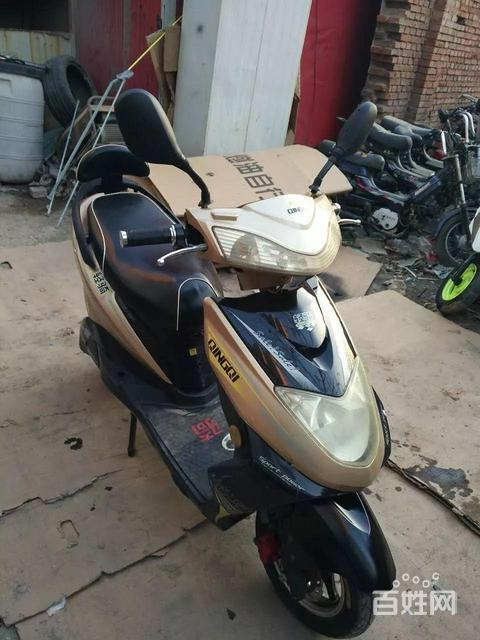电动车: (52, 88, 407, 638)
